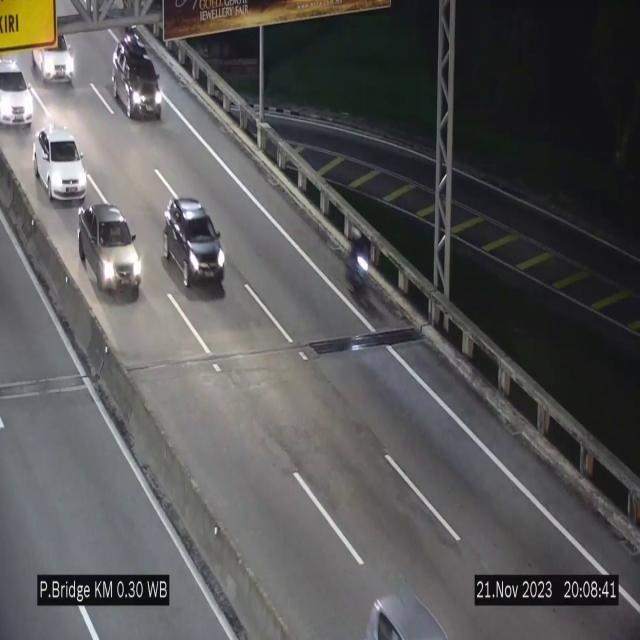Car: (78, 203, 142, 297), (163, 197, 225, 287), (112, 34, 162, 119), (33, 127, 87, 201), (28, 23, 80, 90), (0, 54, 39, 140)
Motorcycle: (347, 225, 371, 312)
